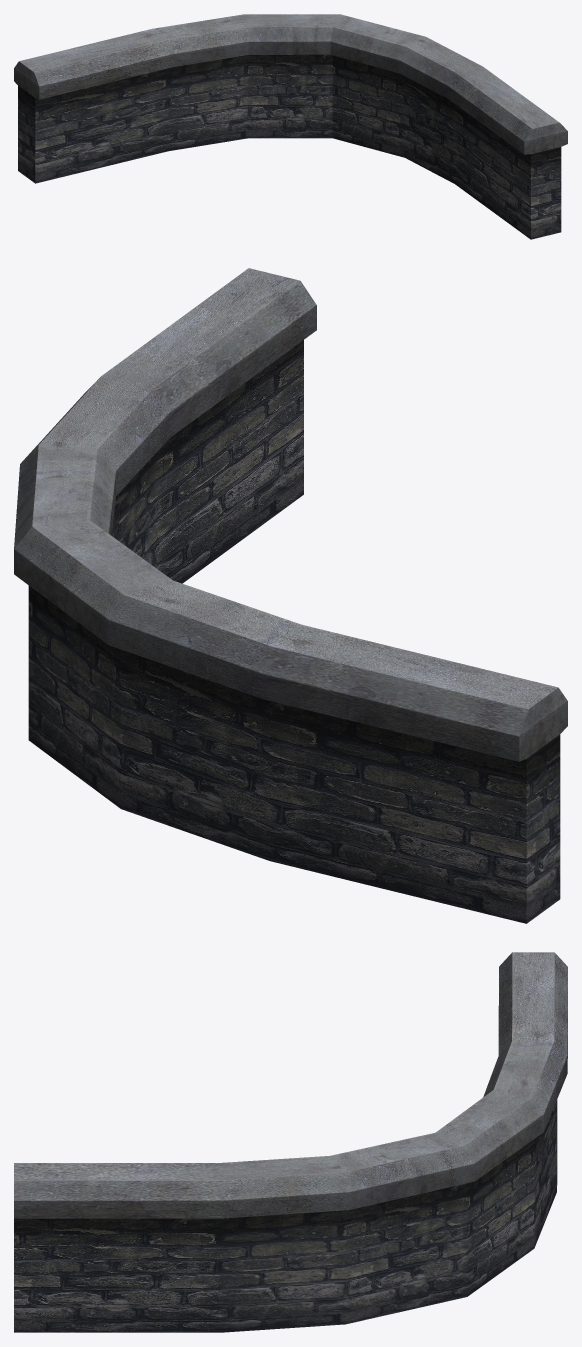
File: stone_wall_corner.dae
3 views of the same model, one above another, from view 1: azimuth 30°, elevation 25°; view 2: azimuth 150°, elevation 25°; view 3: azimuth 270°, elevation 25° (orthographic). The views are drawn at different scales.
Visible parts, largest first — view 1: Sphere01; view 2: Sphere01; view 3: Sphere01.
Part boxes in pixels (x1=…): Sphere01: x1=14, y1=14, x2=567, y2=239; Sphere01: x1=14, y1=268, x2=567, y2=923; Sphere01: x1=14, y1=952, x2=567, y2=1332.
Bounding box in the file's own units: 267 × 267 × 80.12.
Materials: 1 (1 with a texture image).
